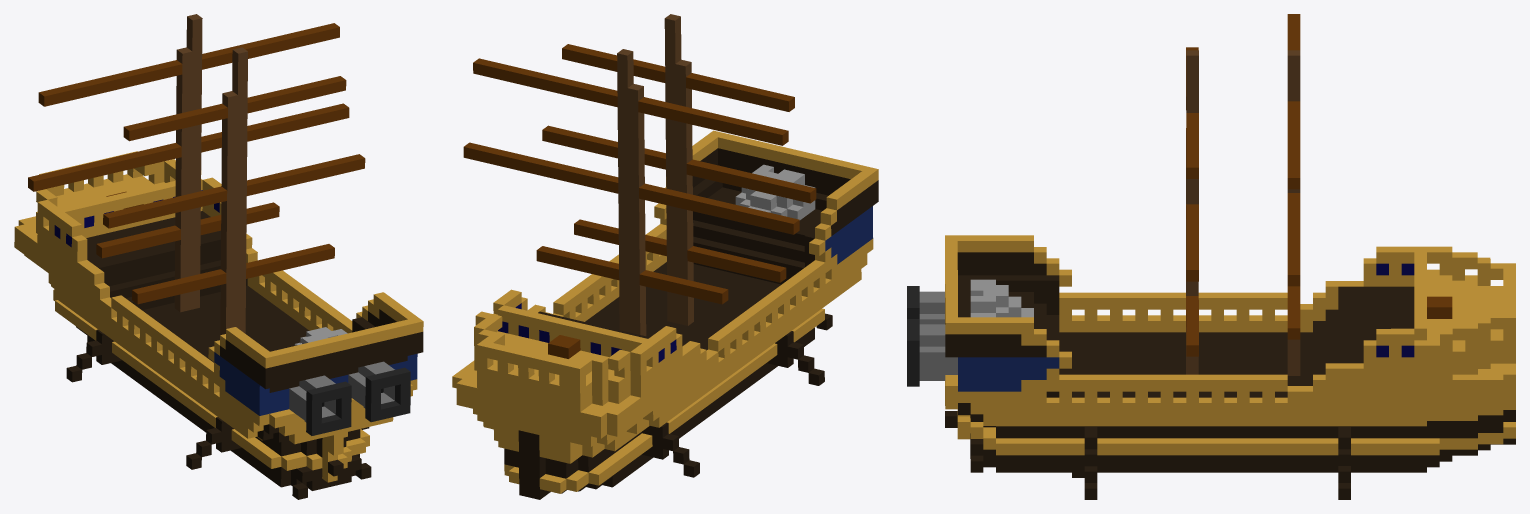
File: ship-first.glb
3 views of the same model, side by side, from view 1: azimuth 30°, elevation 25°; view 2: azimuth 150°, elevation 25°; view 3: azimuth 270°, elevation 25° (orthographic). The views are drawn at different scales.
Visible parts, largest first — view 1: Untitled; view 2: Untitled; view 3: Untitled.
Part boxes in pixels (x1,y1,x2,y2): Untitled: (14, 14, 423, 499); Untitled: (452, 14, 878, 499); Untitled: (907, 14, 1515, 499).
Size of the model in its own units: 3.2 by 3.51 by 4.8.
1 material, 1 textured.
